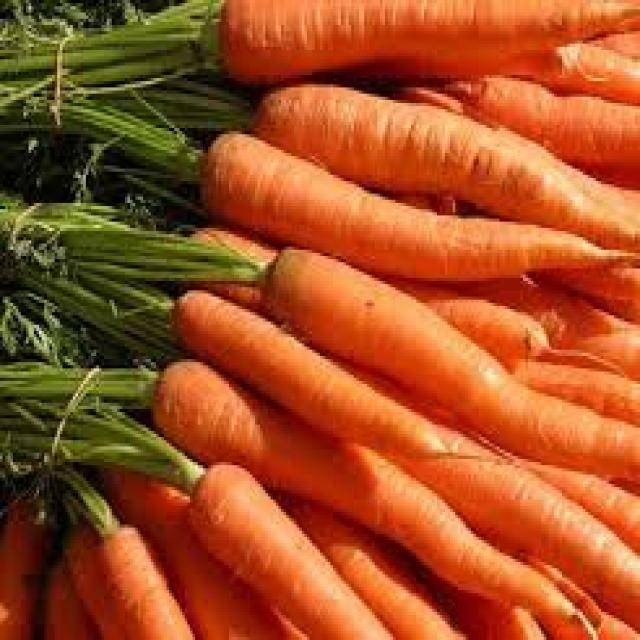Fresh_Carrot: (226, 11, 640, 610)
